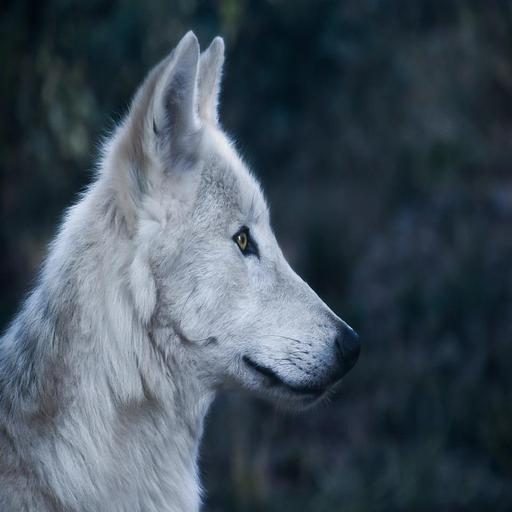Wolf: (2, 28, 371, 512)
